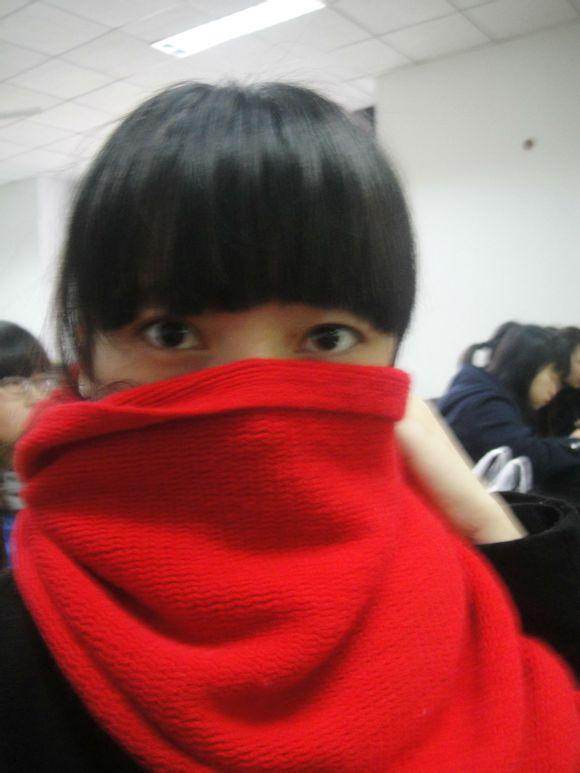NONE: (1, 361, 57, 444)
OK: (102, 253, 404, 529)
